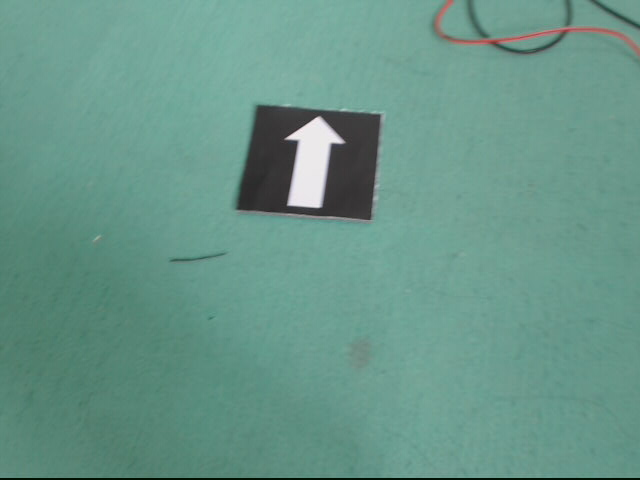straight: (236, 106, 380, 218)
